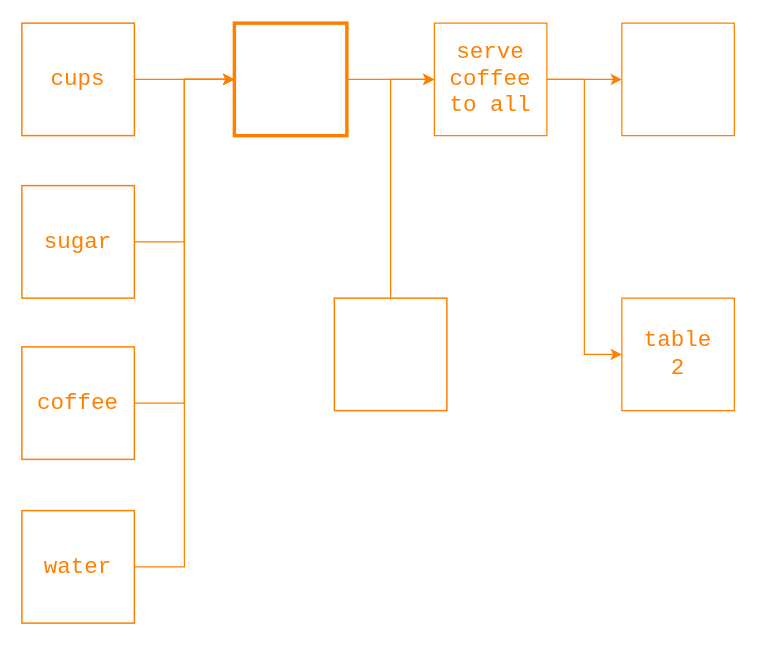
This 758x645 diagram has some shape labels left out. The shapes that lost their labels are listed below. From the top down, each one's centre as x and y in pixels, then its label:
point (290, 79): Wait for all
point (677, 79): table 1
point (390, 354): cup of coffee
